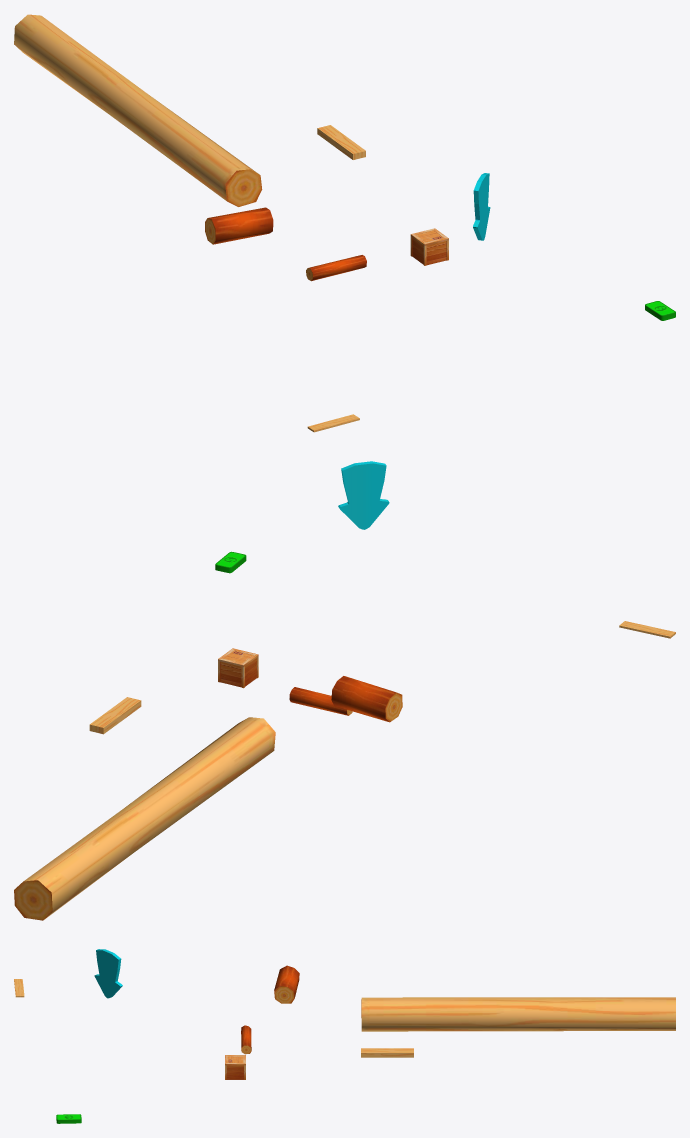
The model's file is item.fbx.
3 renders of one model, top to bottom at view 1: azimuth 30°, elevation 25°; view 2: azimuth 150°, elevation 25°; view 3: azimuth 270°, elevation 25°, orthographic. The views are drawn at different scales.
Parts seen in each view (by area): view 1: log.001, logs, box, arrow, log, desk; view 2: log.001, arrow, logs, box, desk, log; view 3: log.001, arrow, logs, desk, box, log.
Part boxes in pixels (x1,y1,x2,y2): log.001: (14,14,262,206); logs: (205,207,273,244); box: (410,228,448,265); arrow: (473,173,490,240); log: (306,255,366,281); desk: (317,125,365,159); log.001: (14,717,275,920); arrow: (338,461,389,529); logs: (331,676,402,722); box: (218,648,258,688); desk: (89,697,141,734); log: (289,687,352,715); log.001: (361,997,675,1031); arrow: (94,949,122,998); logs: (274,965,299,1003); desk: (361,1048,413,1057); box: (225,1055,245,1079); log: (241,1025,251,1054).
Bounding box in the file's own units: 394 × 147 × 773.
